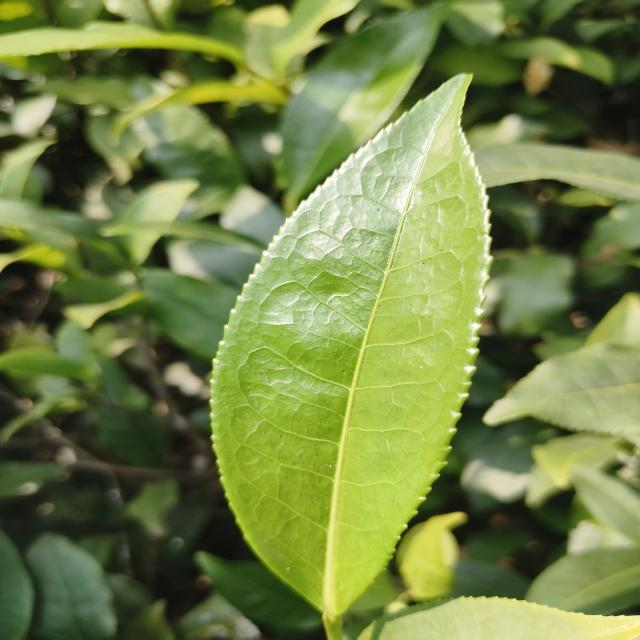Leaf: (212, 75, 490, 640), (281, 2, 448, 201), (484, 343, 640, 441), (374, 597, 640, 640), (0, 21, 244, 65), (124, 105, 244, 191), (194, 551, 321, 632), (25, 533, 117, 640), (475, 144, 640, 201), (460, 418, 559, 511), (141, 268, 239, 361), (526, 548, 640, 615), (489, 249, 574, 336), (396, 512, 468, 602), (271, 0, 358, 71), (570, 465, 640, 543), (89, 407, 170, 468), (114, 179, 199, 226), (0, 346, 93, 380), (123, 229, 160, 264)
